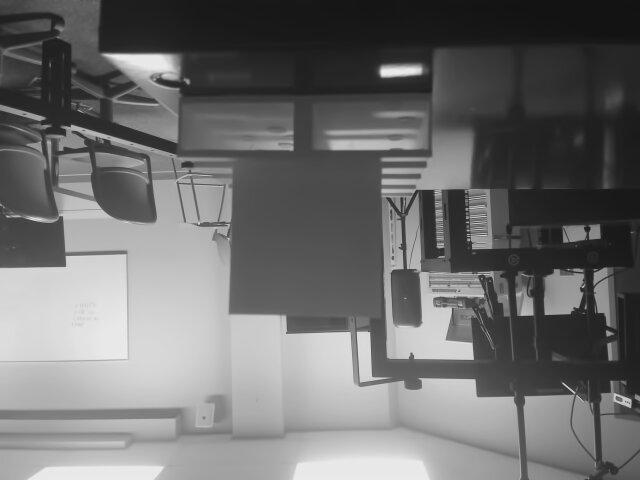grey pallet: (163, 87, 440, 335)
